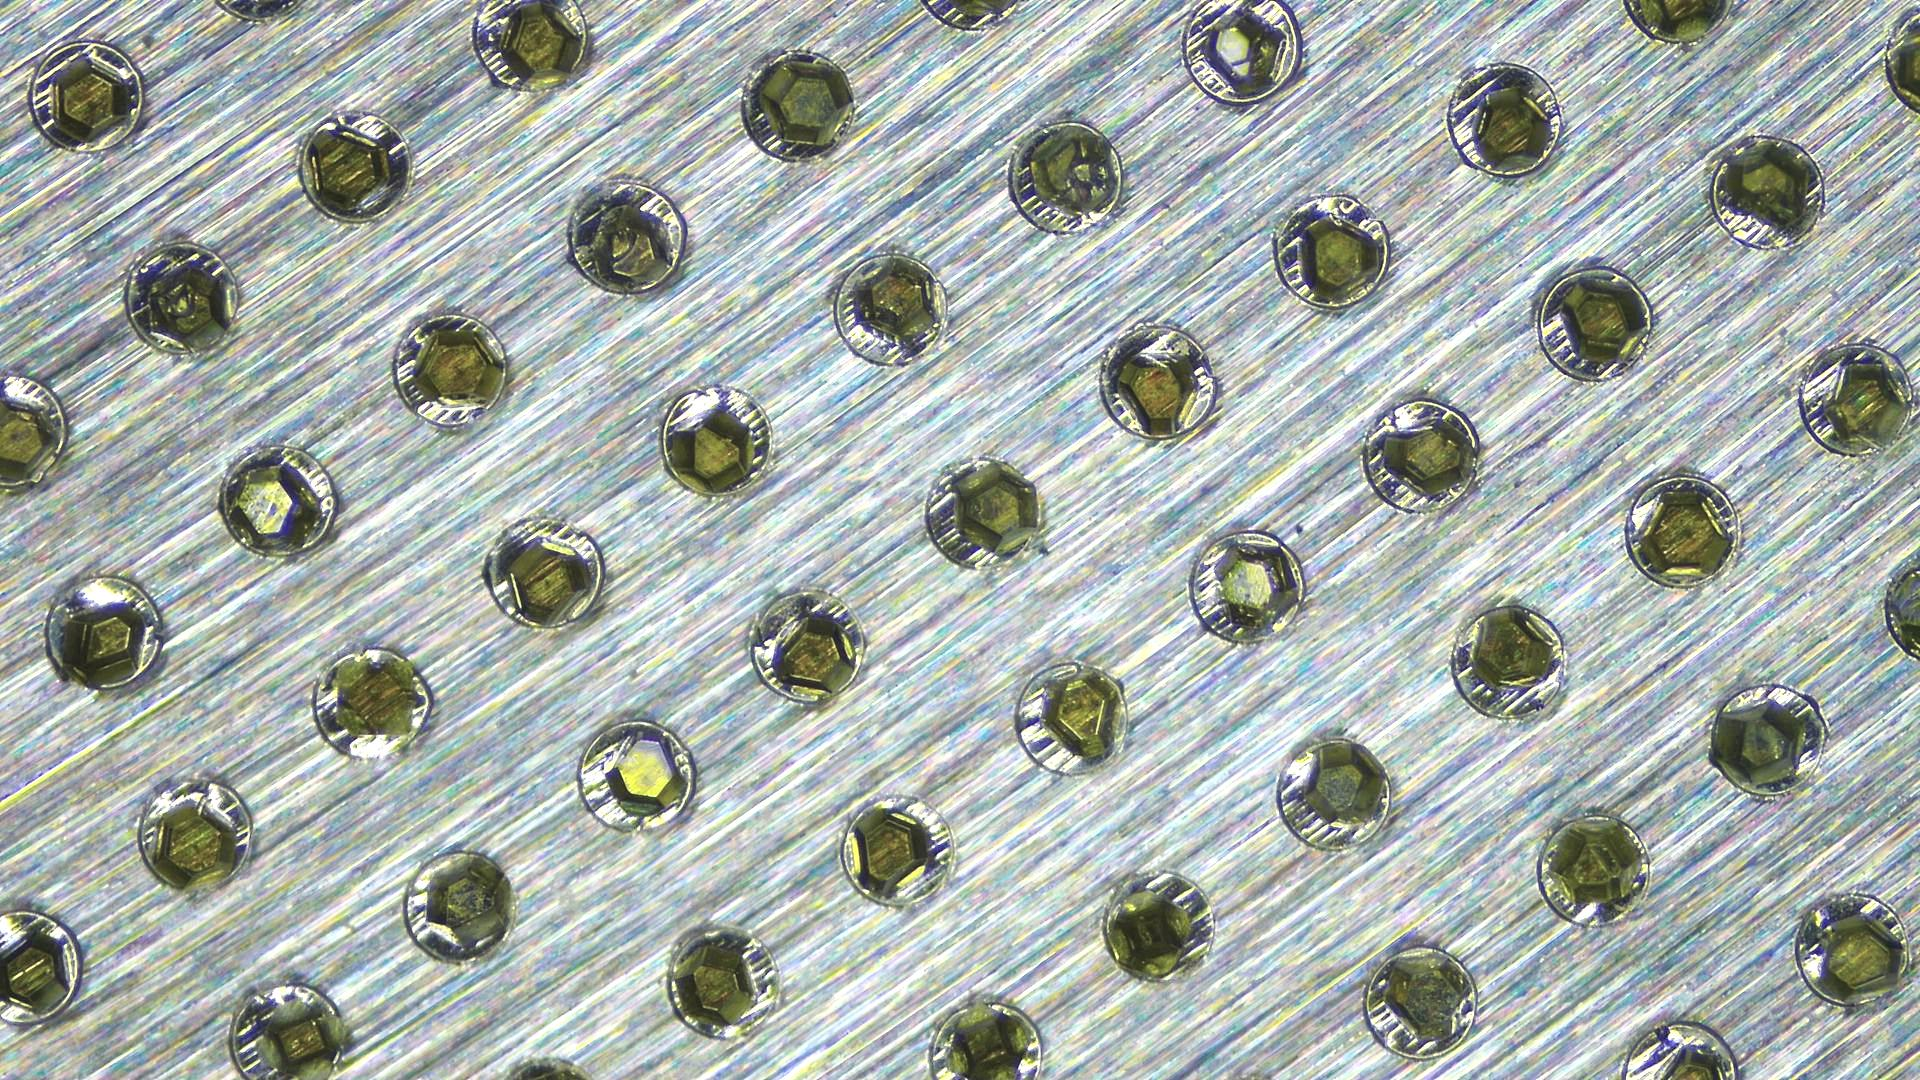break: (1005, 112, 1134, 241), (111, 233, 239, 363), (560, 170, 688, 298)
twin: (1702, 129, 1833, 258)
